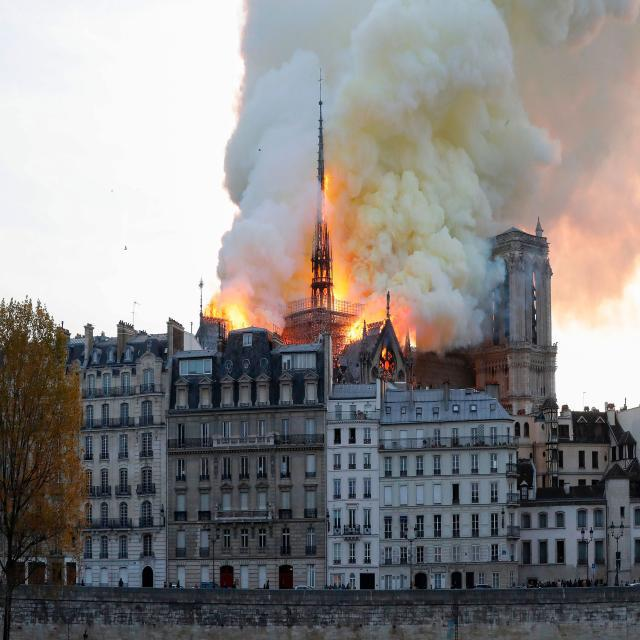Fire: (342, 296, 418, 354), (200, 284, 274, 341), (308, 262, 344, 324), (316, 172, 331, 254), (378, 346, 396, 382), (280, 333, 300, 346), (492, 286, 494, 332)
Smoke: (322, 0, 640, 288), (216, 0, 320, 298), (411, 284, 504, 358)
